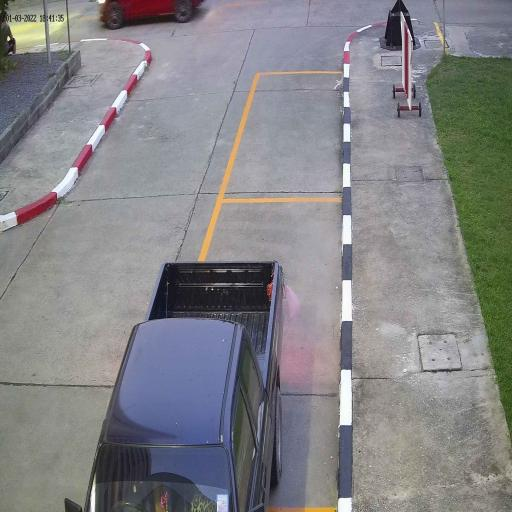car: (83, 258, 285, 512)
